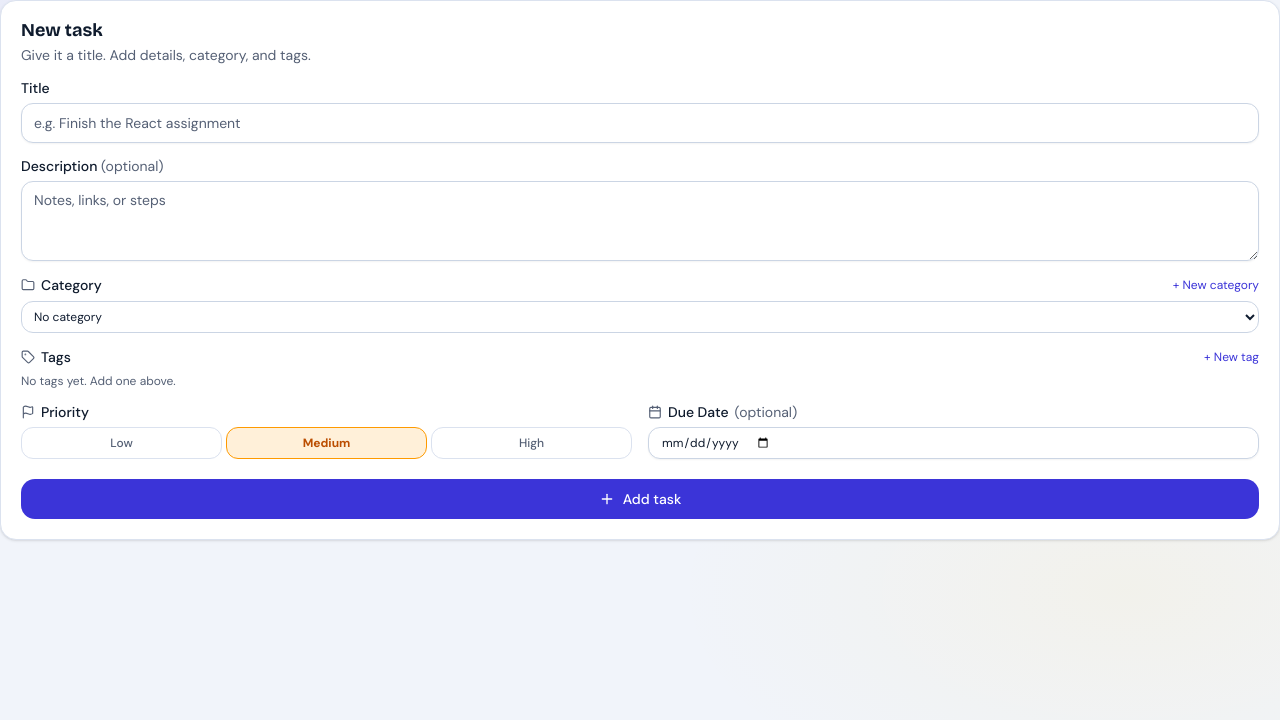
Test: TodoForm › validates a blank title before creating a todo
The width and height of the screenshot is (1280, 720).
Click the button "Add task" at [640, 499], box [21,479,1259,519]
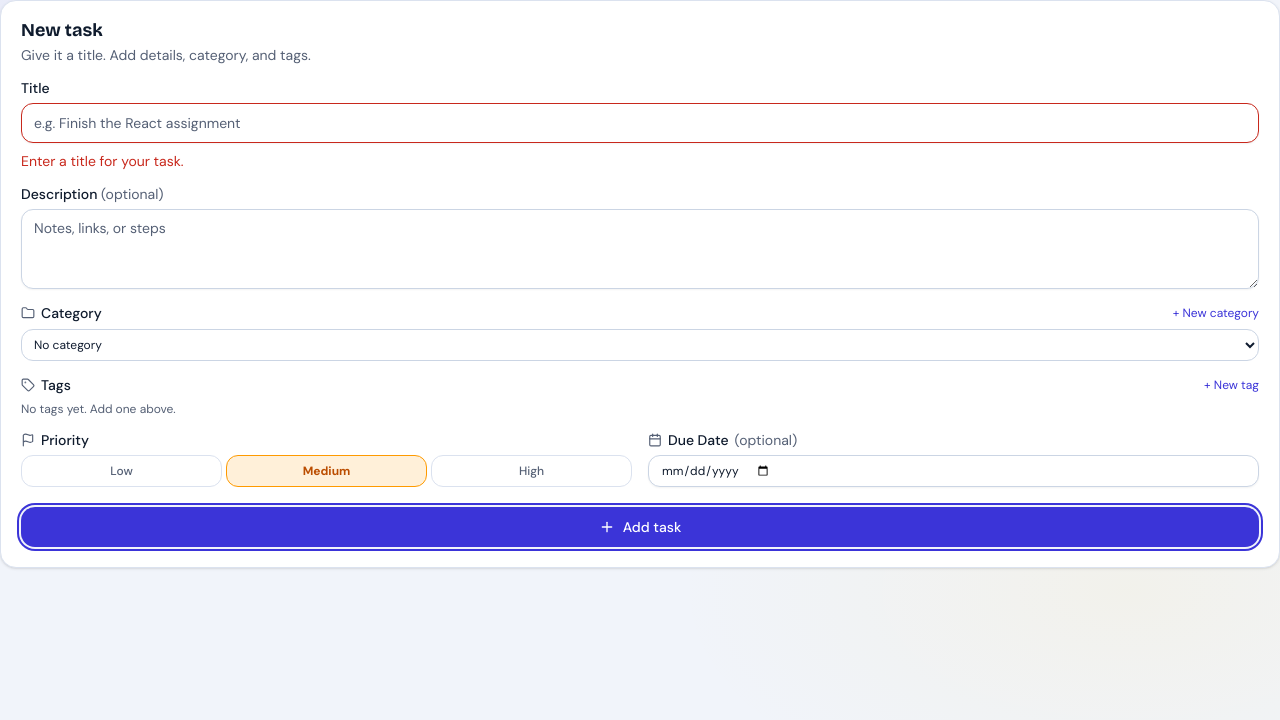
Expected: the message shows "Enter a title", [21,152,184,170]
